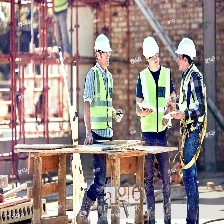helmet: (142, 35, 160, 60), (176, 38, 198, 57), (94, 35, 113, 55)
person: (81, 33, 127, 224), (135, 33, 180, 224), (173, 33, 210, 224)
vest: (139, 67, 172, 135), (88, 66, 114, 135), (181, 66, 198, 120)
